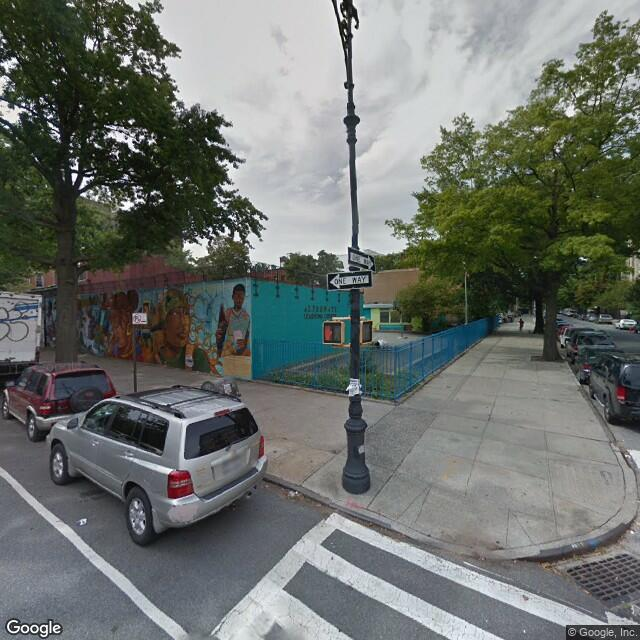litter: (281, 486, 311, 503), (72, 516, 96, 530)
